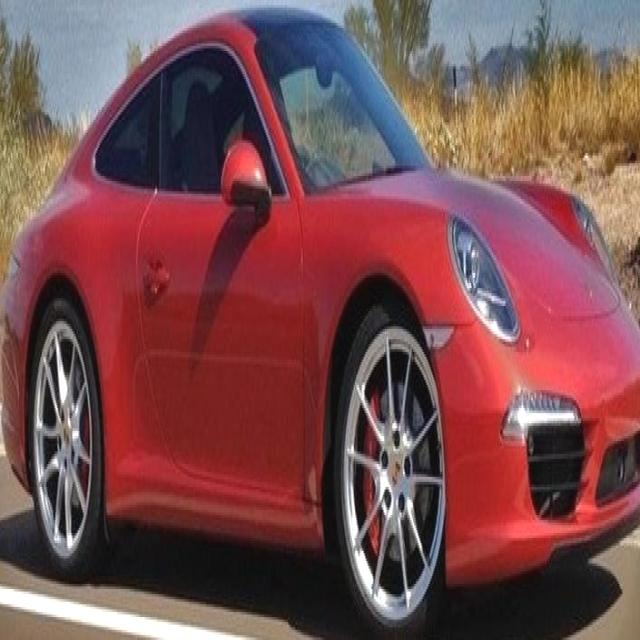red: (0, 22, 640, 553)
